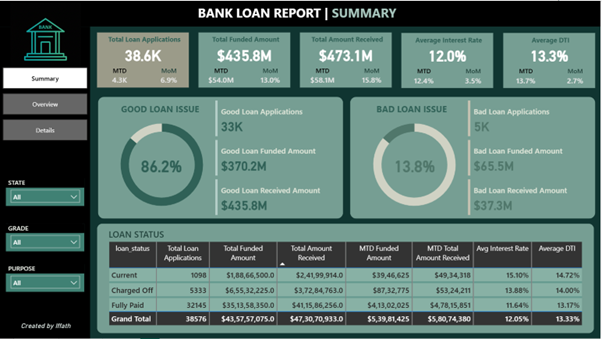

The page's visual inventory and layout, read from the dashboard file:
{"tool":"powerbi","page":{"name":"Summary","canvas":[1280,720],"ordinal":0},"visuals":[{"type":"shape","box":[0,55.2,192,665.6],"z":0},{"type":"shape","box":[206.3,67.8,195.8,117.5],"z":0,"group":"g1"},{"type":"shape","box":[422.8,67.8,195.8,117.5],"z":0,"group":"g2"},{"type":"shape","box":[639.3,67.8,195.8,117.5],"z":0,"group":"g3"},{"type":"shape","box":[855.8,68.3,195.8,117.5],"z":0,"group":"g4"},{"type":"shape","box":[1072.7,68.3,195.8,117.5],"z":0,"group":"g5"},{"type":"textbox","box":[248.5,212.5,186.1,39],"z":0,"group":"g6"},{"type":"textbox","box":[790.8,212.5,173.1,39],"z":0,"group":"g7"},{"type":"card","fields":{"Values":["public bank_loan_data.Total Loan Applications"]},"box":[238.3,87.4,131.7,55.2],"z":1000,"group":"g1"},{"type":"card","fields":{"Values":["public bank_loan_data.Total Funded Amount"]},"box":[454.8,87.4,131.7,55.2],"z":1000,"group":"g2"},{"type":"card","fields":{"Values":["public bank_loan_data.Total Amount Received"]},"box":[671.3,87.4,131.7,55.2],"z":1000,"group":"g3"},{"type":"card","fields":{"Values":["public bank_loan_data.Avg Interest Rate"]},"box":[887.8,87.9,131.7,55.2],"z":1000,"group":"g4"},{"type":"card","fields":{"Values":["public bank_loan_data.Average DTI"]},"box":[1104.7,87.9,131.7,55.2],"z":1000,"group":"g5"},{"type":"donutChart","fields":{"Category":["public bank_loan_data.Good vs Bad Loan"],"Y":["public bank_loan_data.Total Loan Applications"]},"box":[220.7,235.2,249.6,229.4],"z":1000,"group":"g6"},{"type":"donutChart","fields":{"Category":["public bank_loan_data.Good vs Bad Loan"],"Y":["public bank_loan_data.Total Loan Applications"]},"box":[758.9,235.2,249.6,229.4],"z":1000,"group":"g7"},{"type":"textbox","box":[13.2,678.4,167.8,30],"z":1000},{"type":"textbox","box":[220.5,67.8,172.6,39.2],"z":2000,"group":"g1"},{"type":"textbox","box":[437,67.8,172.6,39.2],"z":2000,"group":"g2"},{"type":"textbox","box":[653.5,67.8,172.6,39.2],"z":2000,"group":"g3"},{"type":"textbox","box":[870,68.3,172.6,39.2],"z":2000,"group":"g4"},{"type":"textbox","box":[1086.9,68.3,172.6,39.2],"z":2000,"group":"g5"},{"type":"shape","box":[209.2,204.9,522.3,259.7],"z":2000},{"type":"cardVisual","fields":{"Data":["public bank_loan_data.Good Loan Applications","public bank_loan_data.Good Loan Funded Amount","public bank_loan_data.Good Loan Received Amount"]},"box":[454.4,207.8,266.9,256.8],"z":2000,"group":"g6"},{"type":"cardVisual","fields":{"Data":["public bank_loan_data.Bad Loan Applications","public bank_loan_data.Bad Loan Funded Amount","public bank_loan_data.Bad Loan Received Amount"]},"box":[992.6,207.8,266.9,256.8],"z":2000,"group":"g7"},{"type":"shape","box":[0,0,1280,55],"z":3000},{"type":"card","title":"MTD","fields":{"Values":["public bank_loan_data.MTD Loan Applications"]},"box":[220.5,139,67.6,46.3],"z":3000,"group":"g1"},{"type":"card","title":"MTD","fields":{"Values":["public bank_loan_data.MTD Funded Amount"]},"box":[437,139,67.6,46.3],"z":3000,"group":"g2"},{"type":"card","title":"MTD","fields":{"Values":["public bank_loan_data.MTD Total Amount Received"]},"box":[653.5,139,67.6,46.3],"z":3000,"group":"g3"},{"type":"card","title":"MTD","fields":{"Values":["public bank_loan_data.MTD Avg Interest Rate"]},"box":[870,139.5,67.6,46.3],"z":3000,"group":"g4"},{"type":"card","title":"MTD","fields":{"Values":["public bank_loan_data.MTD Avg DTI"]},"box":[1086.9,139.5,67.6,46.3],"z":3000,"group":"g5"},{"type":"card","title":"MoM","fields":{"Values":["public bank_loan_data.MoM Loan Application"]},"box":[325.5,139,67.6,46.3],"z":4000,"group":"g1"},{"type":"card","title":"MoM","fields":{"Values":["public bank_loan_data.MoM Total Funded Amount"]},"box":[542,139,67.6,46.3],"z":4000,"group":"g2"},{"type":"card","title":"MoM","fields":{"Values":["public bank_loan_data.MoM Total Amount Received"]},"box":[758.5,139,67.6,46.3],"z":4000,"group":"g3"},{"type":"card","title":"MoM","fields":{"Values":["public bank_loan_data.MoM Avg Interest Rate"]},"box":[975,139.5,67.6,46.3],"z":4000,"group":"g4"},{"type":"card","title":"MoM","fields":{"Values":["public bank_loan_data.MoM Avg DTI"]},"box":[1191.9,139.5,67.6,46.3],"z":4000,"group":"g5"},{"type":"card","fields":{"Values":["public bank_loan_data.Good Loan %"]},"box":[278.5,323.2,131.3,54.8],"z":4000},{"type":"textbox","box":[416.5,1.8,448.5,53.4],"z":5000},{"type":"group","id":"g1","title":"Group 1","box":[206.3,67.8,196.2,118.3],"z":6000},{"type":"group","id":"g2","title":"Group 1","box":[422.8,67.8,196.2,118.3],"z":7000},{"type":"group","id":"g3","title":"Group 1","box":[639.3,67.8,196.2,116.9],"z":8000},{"type":"group","id":"g4","title":"Group 1","box":[855.8,68.3,196.6,117.5],"z":9000},{"type":"group","id":"g5","title":"Group 1","box":[1072.7,68.3,195.4,117.5],"z":10000},{"type":"shape","box":[745.9,204.9,522.3,259.7],"z":11000},{"type":"group","id":"g6","title":"Group 2","box":[220.7,207.8,500.6,256.8],"z":12000},{"type":"shape","box":[206.3,474.7,1059,233.7],"z":13000},{"type":"group","id":"g7","title":"Group 2","box":[758.9,207.8,500.6,256.8],"z":14000},{"type":"card","fields":{"Values":["public bank_loan_data.Bad Loan %"]},"box":[818,323.2,131.3,54.8],"z":15000},{"type":"tableEx","title":"LOAN STATUS","fields":{"Values":["public bank_loan_data.loan_status","public bank_loan_data.Total Loan Applications","public bank_loan_data.Total Funded Amount","public bank_loan_data.Total Amount Received","public bank_loan_data.MTD Funded Amount","public bank_loan_data.MTD Total Amount Received","public bank_loan_data.Avg Interest Rate","public bank_loan_data.Average DTI"]},"box":[226.5,484.8,1021.5,223.6],"z":16000},{"type":"slicer","title":"STATE","fields":{"Values":["public bank_loan_data.address_state"]},"box":[13,378,167.4,59.2],"z":17000},{"type":"slicer","title":"GRADE","fields":{"Values":["public bank_loan_data.grade"]},"box":[13,474.7,167.4,59.2],"z":18000},{"type":"slicer","title":"PURPOSE","fields":{"Values":["public bank_loan_data.purpose"]},"box":[13,561.2,167.4,59.2],"z":19000},{"type":"image","box":[5.8,0,181.8,160.1],"z":20000},{"type":"pageNavigator","box":[5.8,142.8,180.3,155.8],"z":21000}]}

Visuals, with their boxes in screenshot pixels (x1, y1, x2, y2), scaled from the page's 1280x720 canvas onto the 602x339 screenshot:
shape: bbox=[0, 26, 90, 338]
shape: bbox=[97, 32, 189, 87]
shape: bbox=[199, 32, 291, 87]
shape: bbox=[301, 32, 393, 87]
shape: bbox=[402, 32, 495, 87]
shape: bbox=[505, 32, 597, 87]
textbox: bbox=[117, 100, 204, 118]
textbox: bbox=[372, 100, 453, 118]
card - public bank_loan_data.Total Loan Applications: bbox=[112, 41, 174, 67]
card - public bank_loan_data.Total Funded Amount: bbox=[214, 41, 276, 67]
card - public bank_loan_data.Total Amount Received: bbox=[316, 41, 378, 67]
card - public bank_loan_data.Avg Interest Rate: bbox=[418, 41, 479, 67]
card - public bank_loan_data.Average DTI: bbox=[520, 41, 581, 67]
donutChart - public bank_loan_data.Good vs Bad Loan x public bank_loan_data.Total Loan Applications: bbox=[104, 111, 221, 219]
donutChart - public bank_loan_data.Good vs Bad Loan x public bank_loan_data.Total Loan Applications: bbox=[357, 111, 474, 219]
textbox: bbox=[6, 319, 85, 334]
textbox: bbox=[104, 32, 185, 50]
textbox: bbox=[206, 32, 287, 50]
textbox: bbox=[307, 32, 389, 50]
textbox: bbox=[409, 32, 490, 51]
textbox: bbox=[511, 32, 592, 51]
shape: bbox=[98, 96, 344, 219]
cardVisual - public bank_loan_data.Good Loan Applications x public bank_loan_data.Good Loan Funded Amount: bbox=[214, 98, 339, 219]
cardVisual - public bank_loan_data.Bad Loan Applications x public bank_loan_data.Bad Loan Funded Amount: bbox=[467, 98, 592, 219]
shape: bbox=[0, 0, 601, 26]
"MTD" card: bbox=[104, 65, 135, 87]
"MTD" card: bbox=[206, 65, 237, 87]
"MTD" card: bbox=[307, 65, 339, 87]
"MTD" card: bbox=[409, 66, 441, 87]
"MTD" card: bbox=[511, 66, 543, 87]
"MoM" card: bbox=[153, 65, 185, 87]
"MoM" card: bbox=[255, 65, 287, 87]
"MoM" card: bbox=[357, 65, 389, 87]
"MoM" card: bbox=[459, 66, 490, 87]
"MoM" card: bbox=[561, 66, 592, 87]
card - public bank_loan_data.Good Loan %: bbox=[131, 152, 193, 178]
textbox: bbox=[196, 1, 407, 26]
"Group 1" group: bbox=[97, 32, 189, 88]
"Group 1" group: bbox=[199, 32, 291, 88]
"Group 1" group: bbox=[301, 32, 393, 87]
"Group 1" group: bbox=[402, 32, 495, 87]
"Group 1" group: bbox=[505, 32, 596, 87]
shape: bbox=[351, 96, 596, 219]
"Group 2" group: bbox=[104, 98, 339, 219]
shape: bbox=[97, 224, 595, 334]
"Group 2" group: bbox=[357, 98, 592, 219]
card - public bank_loan_data.Bad Loan %: bbox=[385, 152, 446, 178]
"LOAN STATUS" tableEx: bbox=[107, 228, 587, 334]
"STATE" slicer: bbox=[6, 178, 85, 206]
"GRADE" slicer: bbox=[6, 224, 85, 251]
"PURPOSE" slicer: bbox=[6, 264, 85, 292]
image: bbox=[3, 0, 88, 75]
pageNavigator: bbox=[3, 67, 88, 141]
